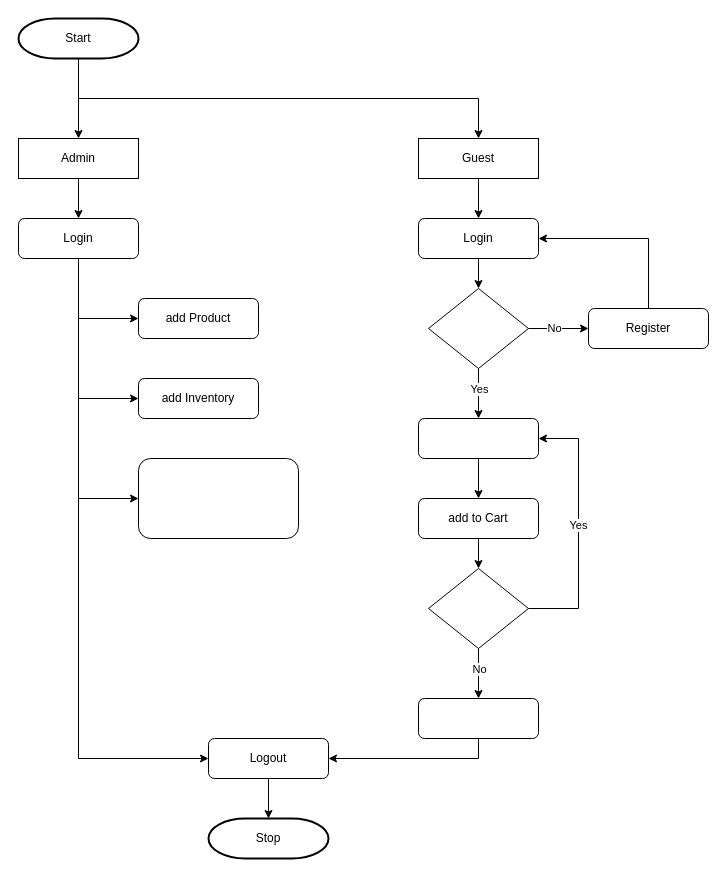
The diagram is 726 pixels wide and 876 high, and some of its shapes have lost their labels. Here are the shapes that lost their labels. From the top down, the centre of each, then its label:
At (478,328): "มี user แล้ว".
At (478,438): "View Product".
At (218,498): "manage Product and Invenroty (mapping ข้อมูล Product กับ Inventory)".
At (478,608): "edit Cart".
At (478,718): "Ordered".
